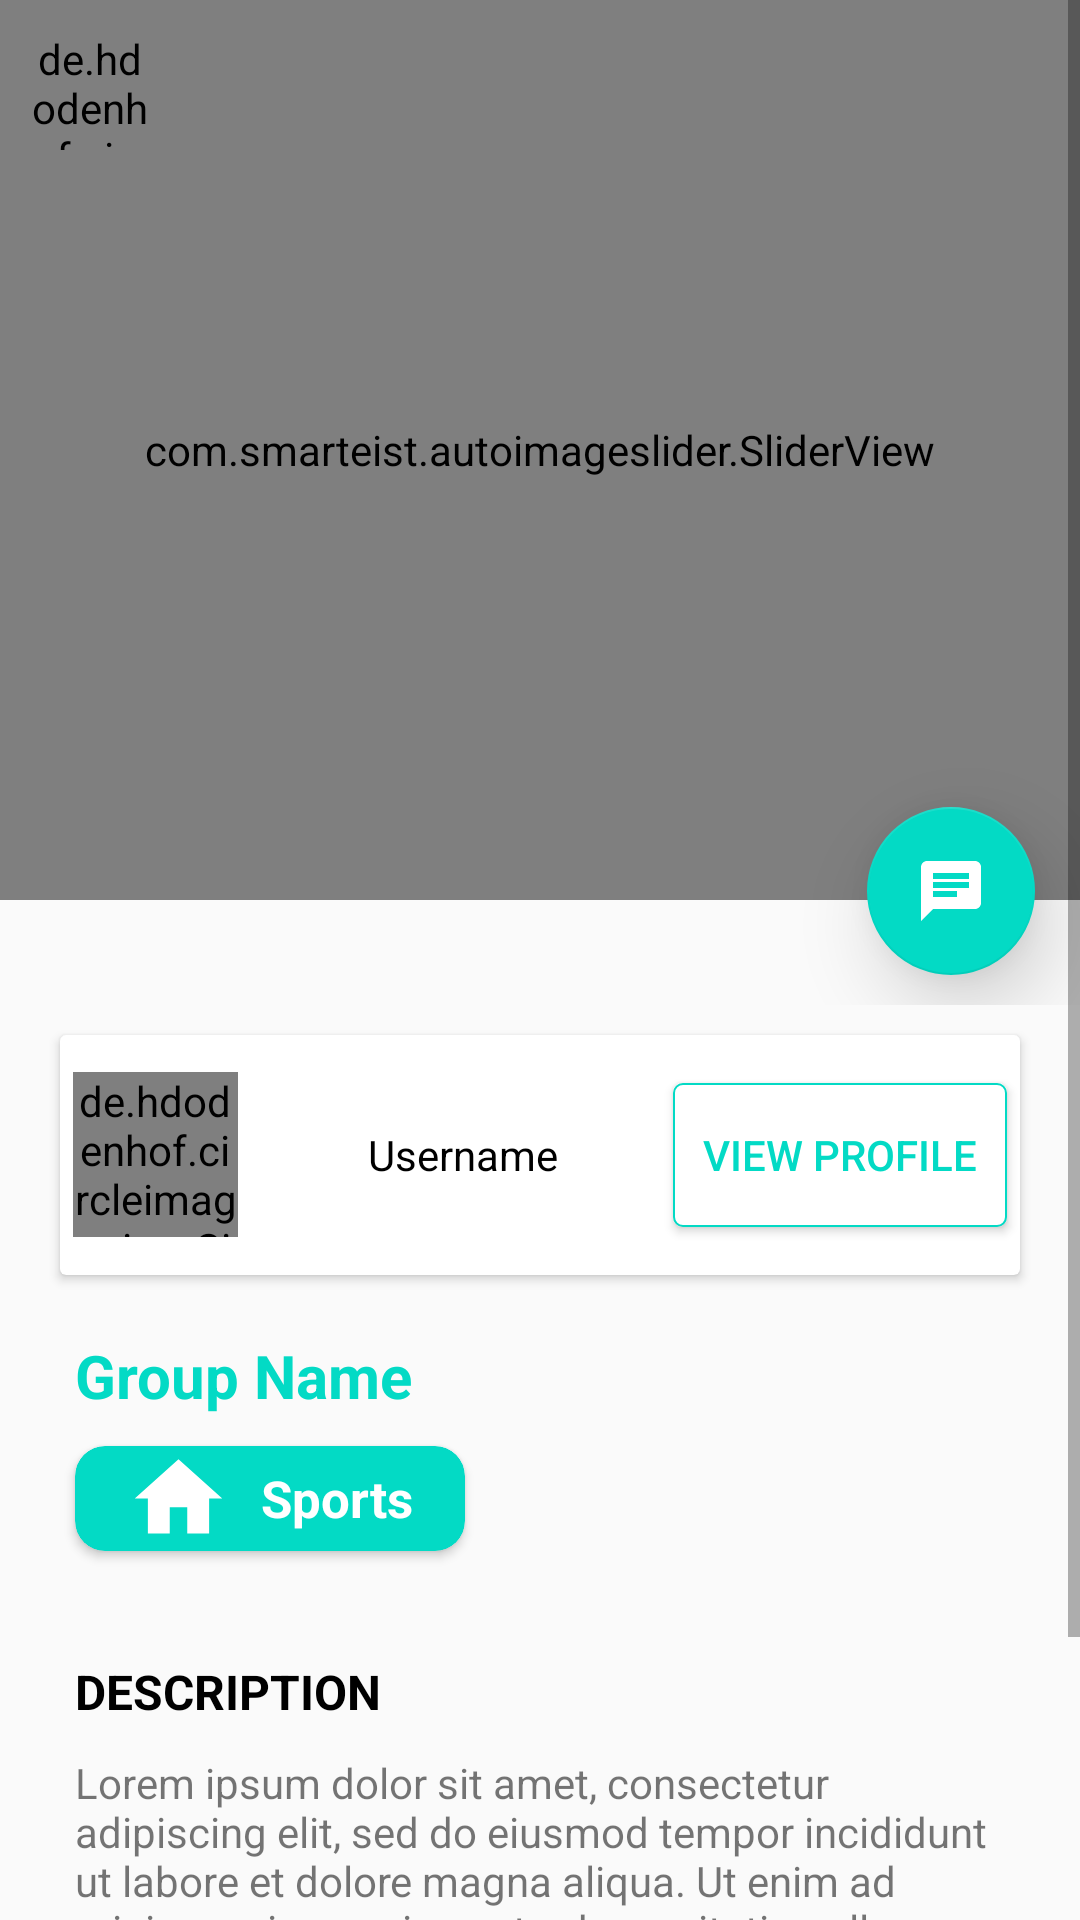

Point at icon controls on the screen. Image size 1080*1920, points as point (x, y).
chat: point (951, 891)
home menu: point (178, 1496)
